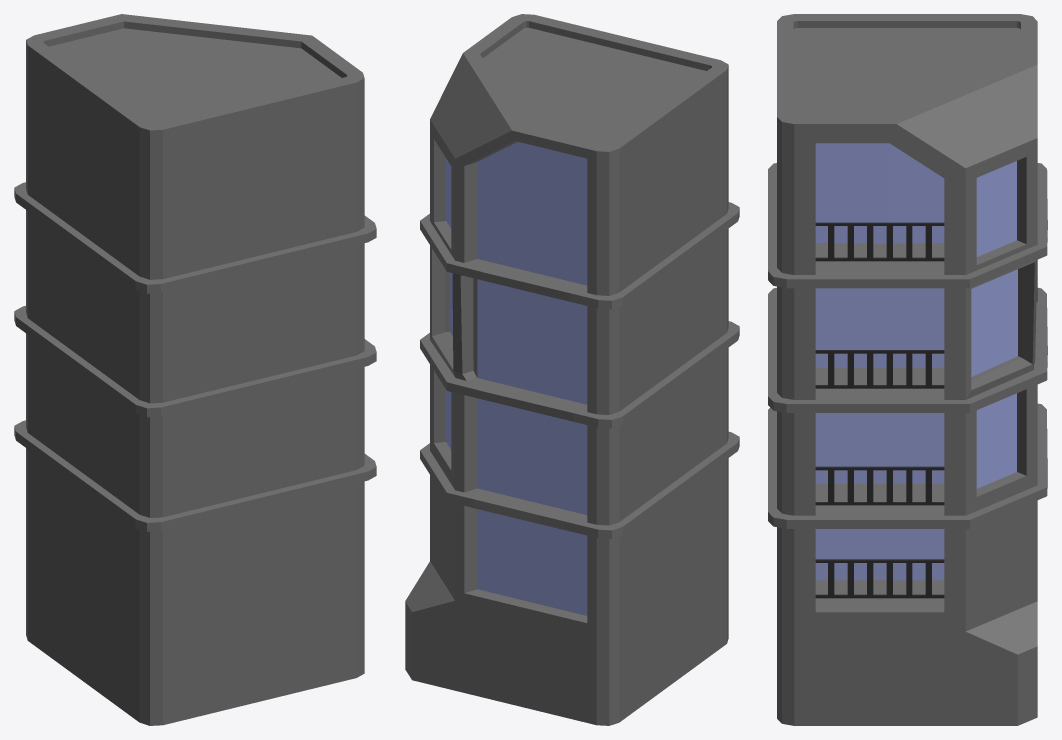
Rendered from Дом 3.fbx.
The picture shows the model from 3 angles, left to right: view 1: azimuth 30°, elevation 25°; view 2: azimuth 150°, elevation 25°; view 3: azimuth 270°, elevation 25°; orthographic projection. The views are drawn at different scales.
Parts seen in each view (by area): view 1: Plane.001; view 2: Plane.001; view 3: Plane.001, Plane.005, Plane.002, Plane.004, Plane.003.
Boxes of the visible parts, bbox=[...] form: Plane.001: bbox=[14, 14, 376, 725]; Plane.001: bbox=[405, 14, 739, 725]; Plane.001: bbox=[768, 14, 1047, 725]; Plane.005: bbox=[815, 559, 944, 598]; Plane.002: bbox=[815, 466, 944, 505]; Plane.004: bbox=[815, 222, 944, 261]; Plane.003: bbox=[815, 350, 944, 388].
Bounding box in the file's own units: 11.52 × 27.41 × 11.55.
